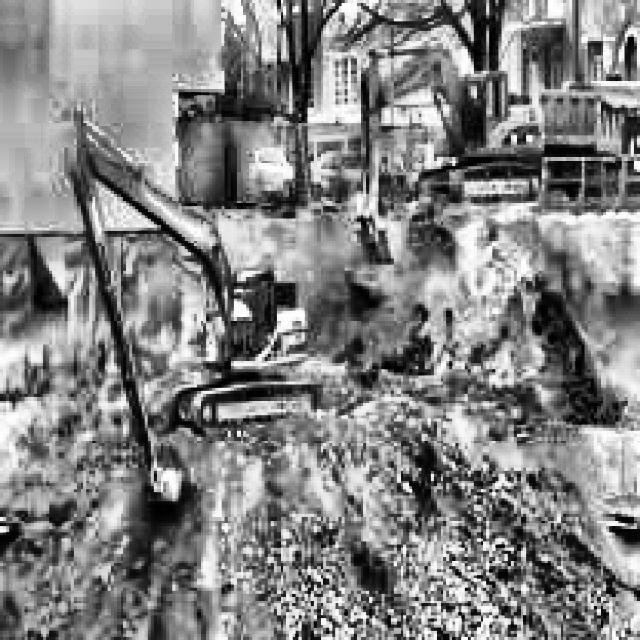dump_truck: (532, 18, 640, 215)
excavator: (60, 92, 322, 523), (359, 11, 543, 294)
